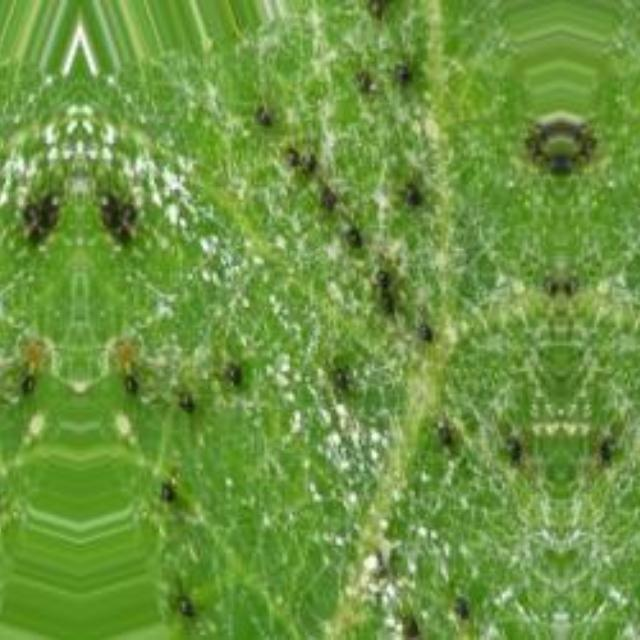Powdery_mildew: (217, 346, 555, 632), (309, 106, 519, 330), (79, 110, 289, 330), (565, 345, 640, 632), (0, 110, 79, 330), (601, 105, 640, 330)
